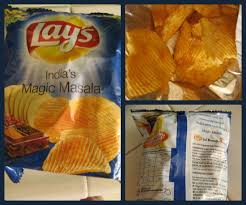plastic: (5, 7, 119, 179), (132, 108, 230, 198)
wrapper: (4, 4, 121, 182), (130, 105, 234, 203)
